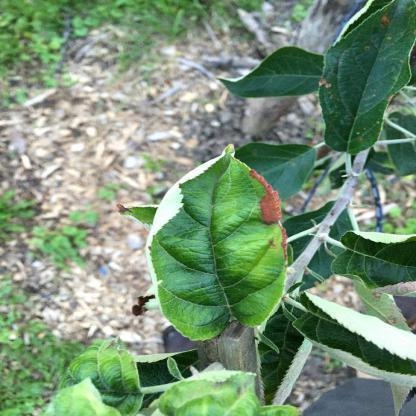Apple leaf: (134, 144, 306, 339)
